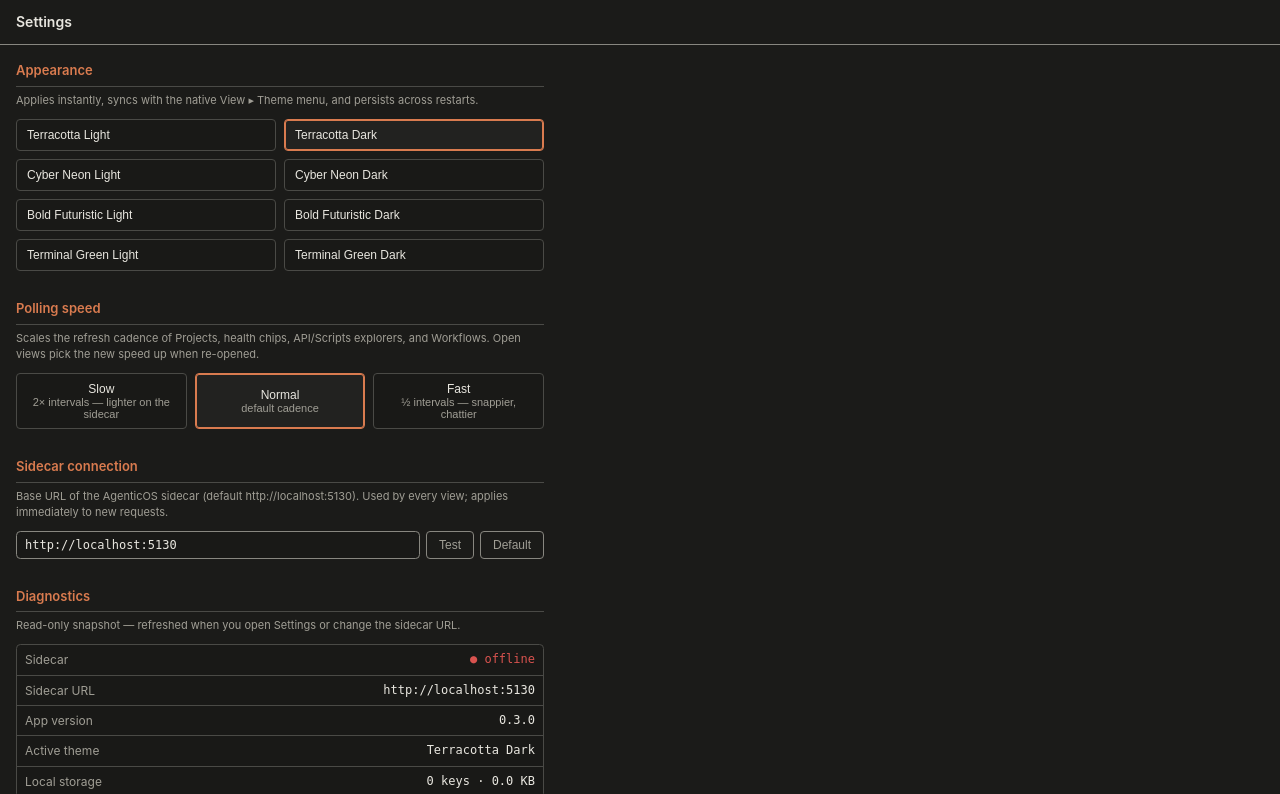
EnvironmentPanel (Settings) › Test button reports unreachable on network failure
Click the button with test id "test-connection": (450,544) 426,530 -> 474,558
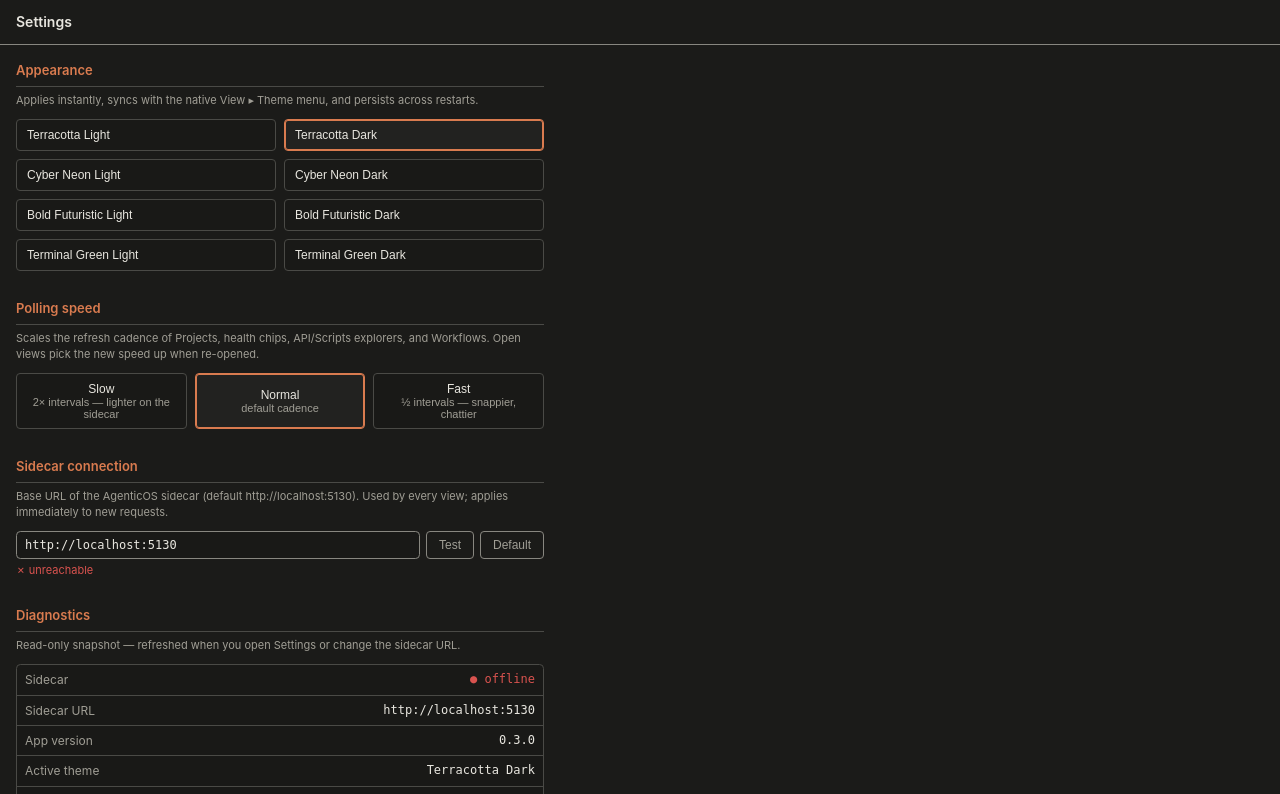
Check: the text with test id "test-result" shows "unreachable", box 29,562 -> 93,576
